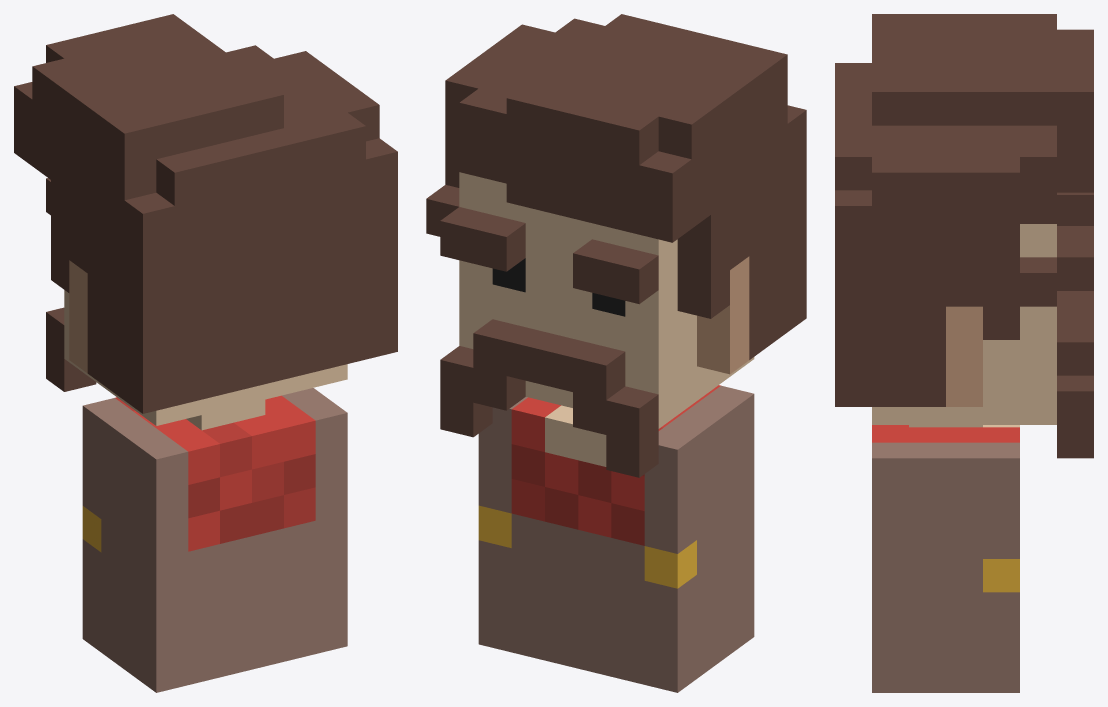
Rendered from Character-10-body.obj.
3 views of the same model, side by side, from view 1: azimuth 30°, elevation 25°; view 2: azimuth 150°, elevation 25°; view 3: azimuth 270°, elevation 25° (orthographic). The views are drawn at different scales.
Parts seen in each view (by area): view 1: body; view 2: body; view 3: body.
Part boxes in pixels (x1,y1,x2,y2): body: (14, 14, 397, 692); body: (426, 14, 806, 692); body: (835, 14, 1093, 692).
Size of the model in its own units: 8 by 17 by 7.
Materials: 1 (1 with a texture image).
